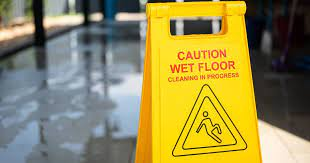wet caution sign: (138, 1, 268, 163)
